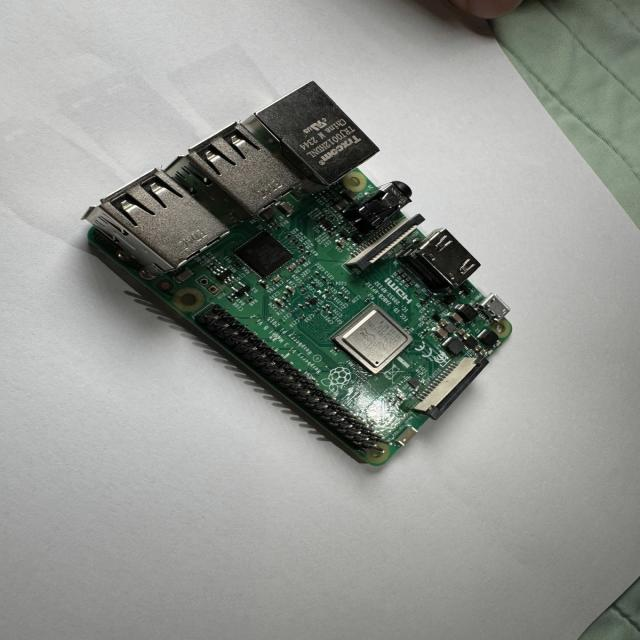CPU: (331, 306, 412, 377)
Ethernet: (251, 83, 380, 185)
GPIO: (142, 290, 395, 468)
HDMI: (410, 229, 483, 290)
RAM-3: (237, 232, 294, 282)
Raspberry: (82, 83, 514, 470)
